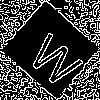W: (25, 25, 91, 90)
